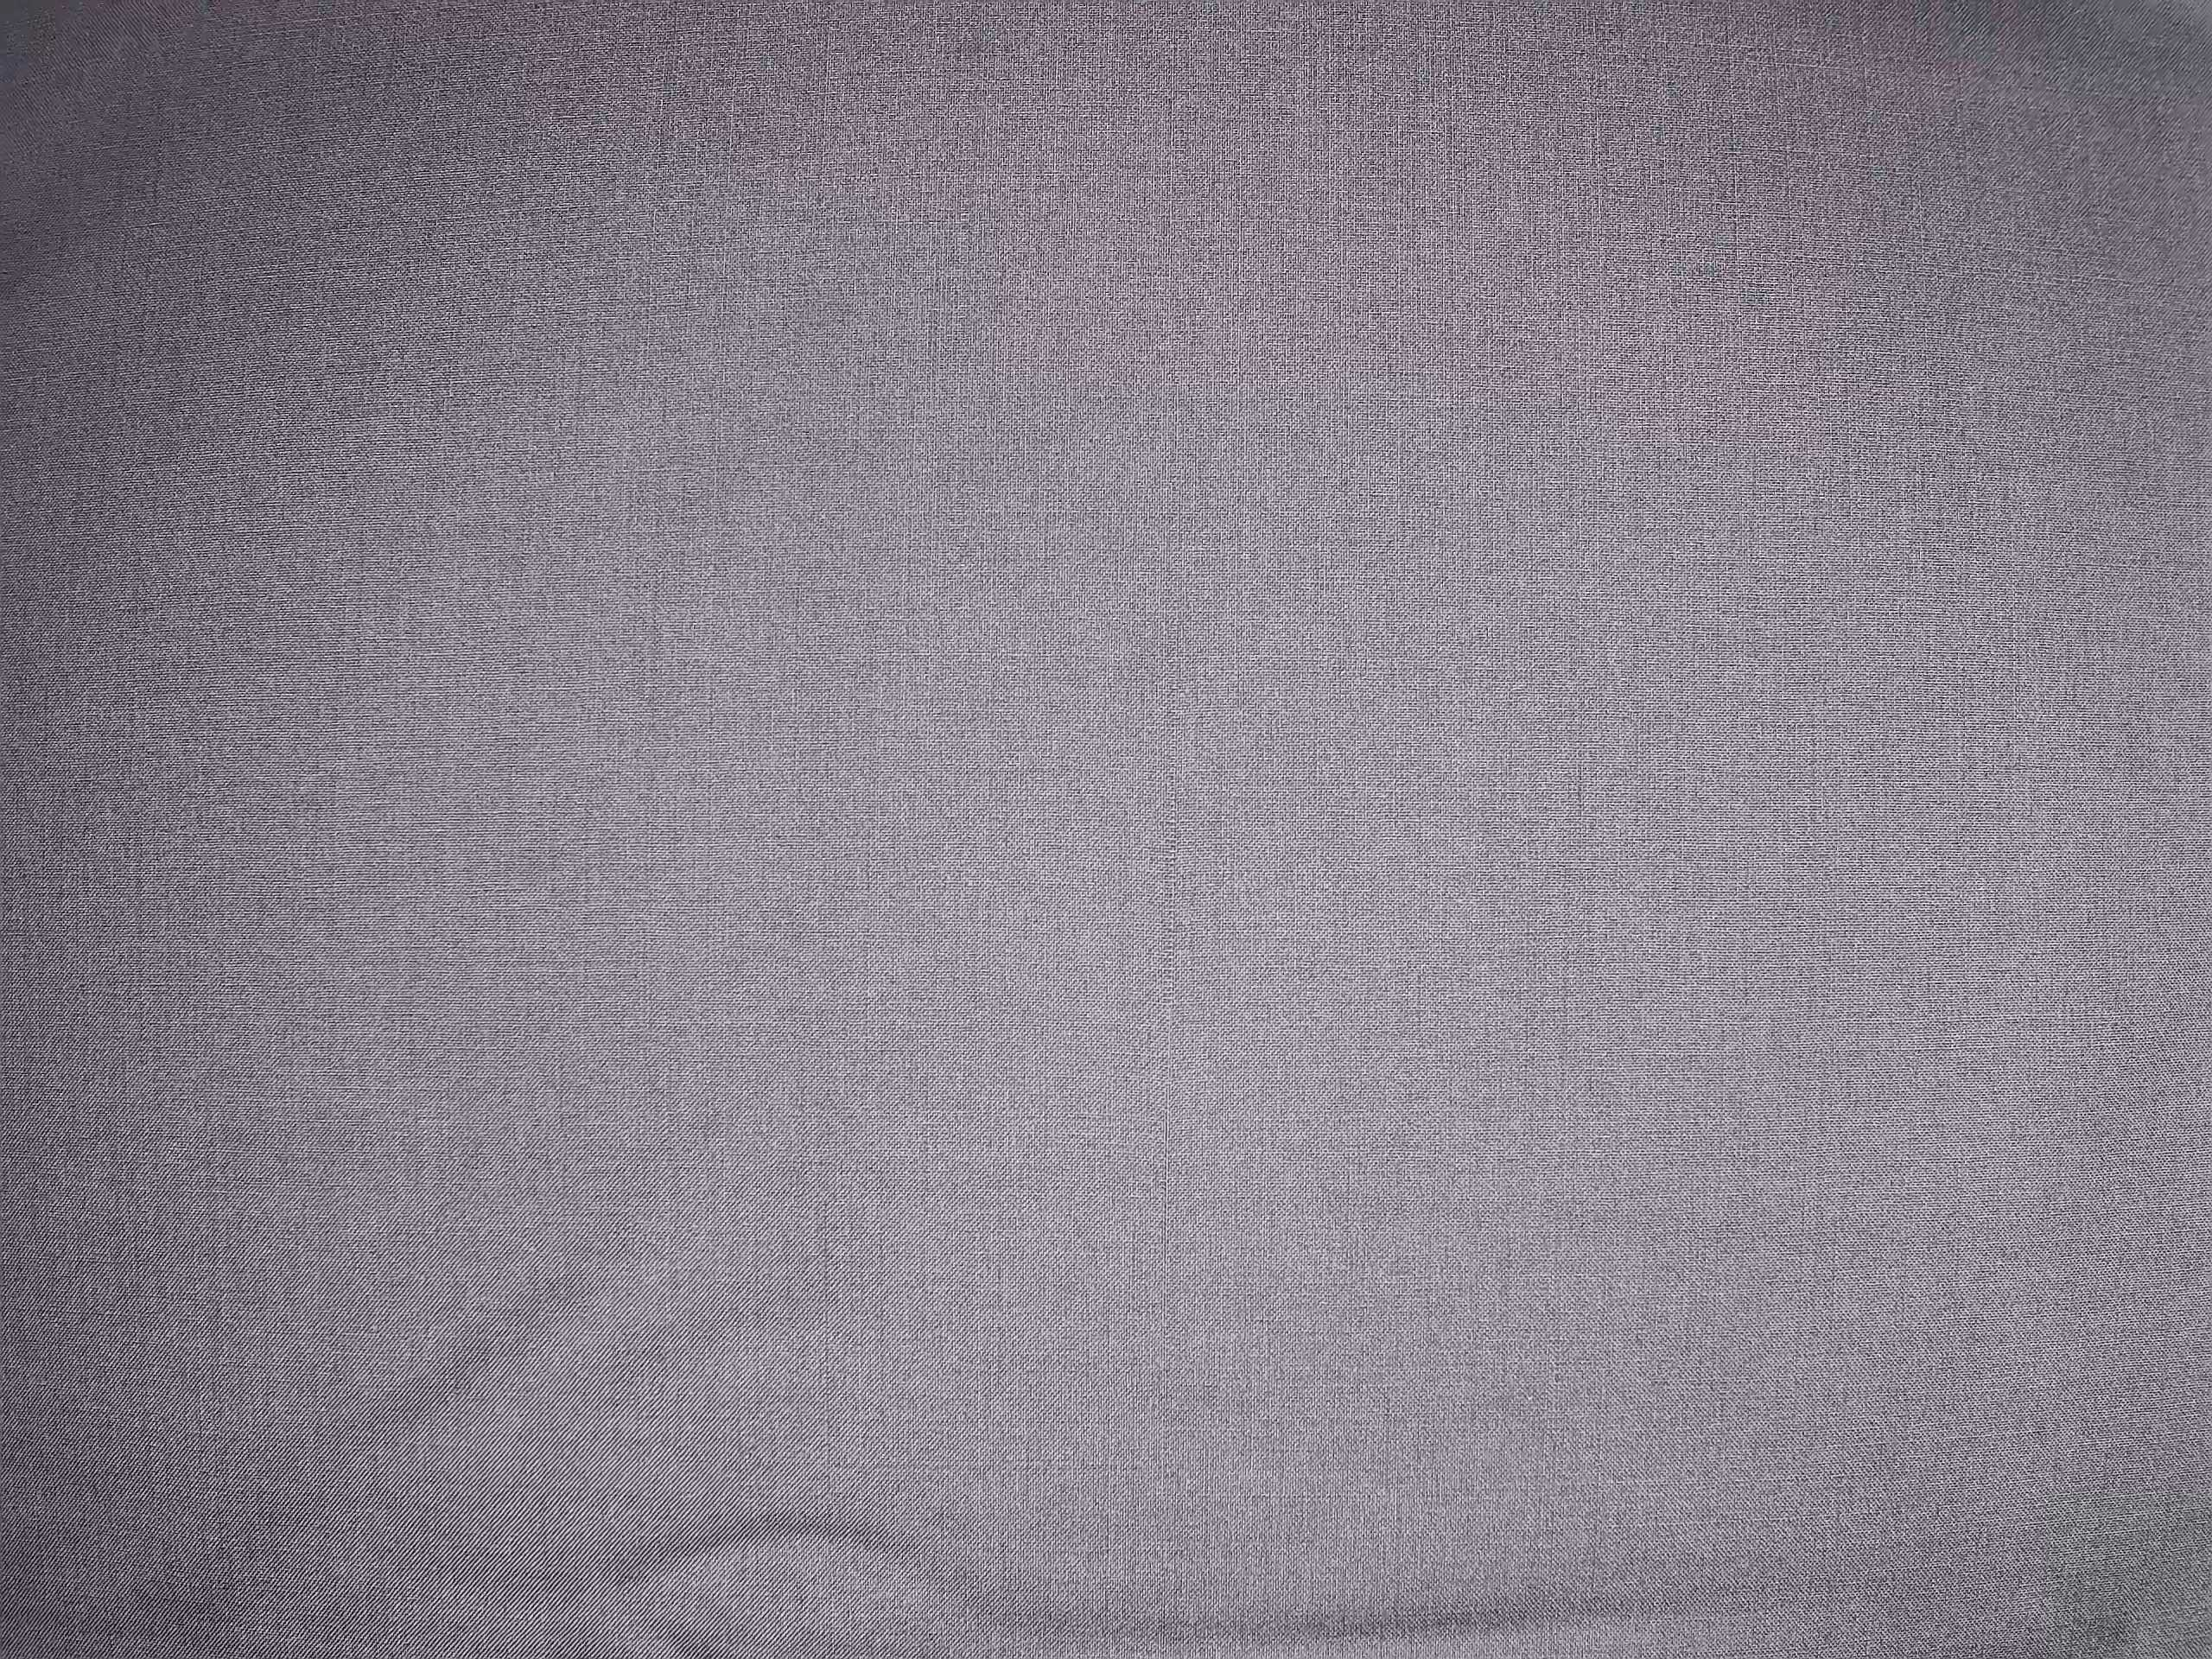others: (1153, 645, 1188, 1229)
